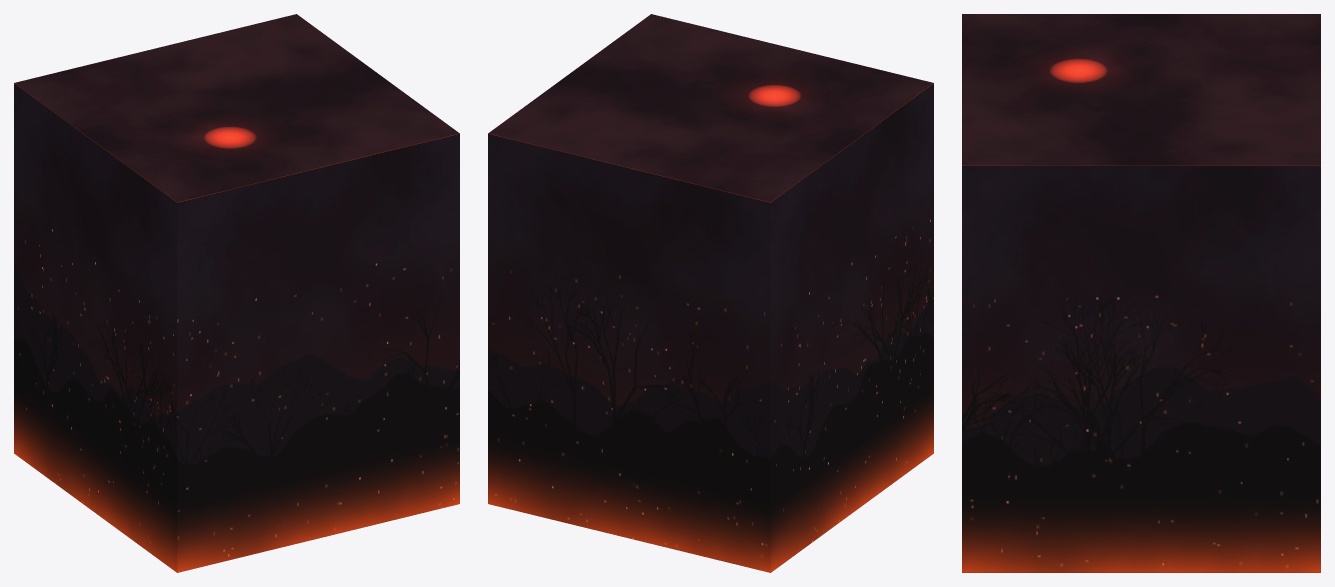
The model's file is raid_arena.glb.
The picture shows the model from 3 angles, left to right: view 1: azimuth 30°, elevation 25°; view 2: azimuth 150°, elevation 25°; view 3: azimuth 270°, elevation 25°; orthographic projection. The views are drawn at different scales.
Visible parts, largest first — view 1: arena_wall, arena_sky; view 2: arena_wall, arena_sky; view 3: arena_wall, arena_sky.
Part boxes in pixels (x1,y1,x2,y2): arena_wall: (14, 83, 459, 572); arena_sky: (14, 14, 459, 202); arena_wall: (488, 83, 933, 572); arena_sky: (488, 14, 933, 202); arena_wall: (962, 165, 1320, 572); arena_sky: (962, 14, 1320, 165).
Size of what is drawn, in the model's own units: 15.88 by 20.17 by 15.88.
Materials: 9 (3 with a texture image).
